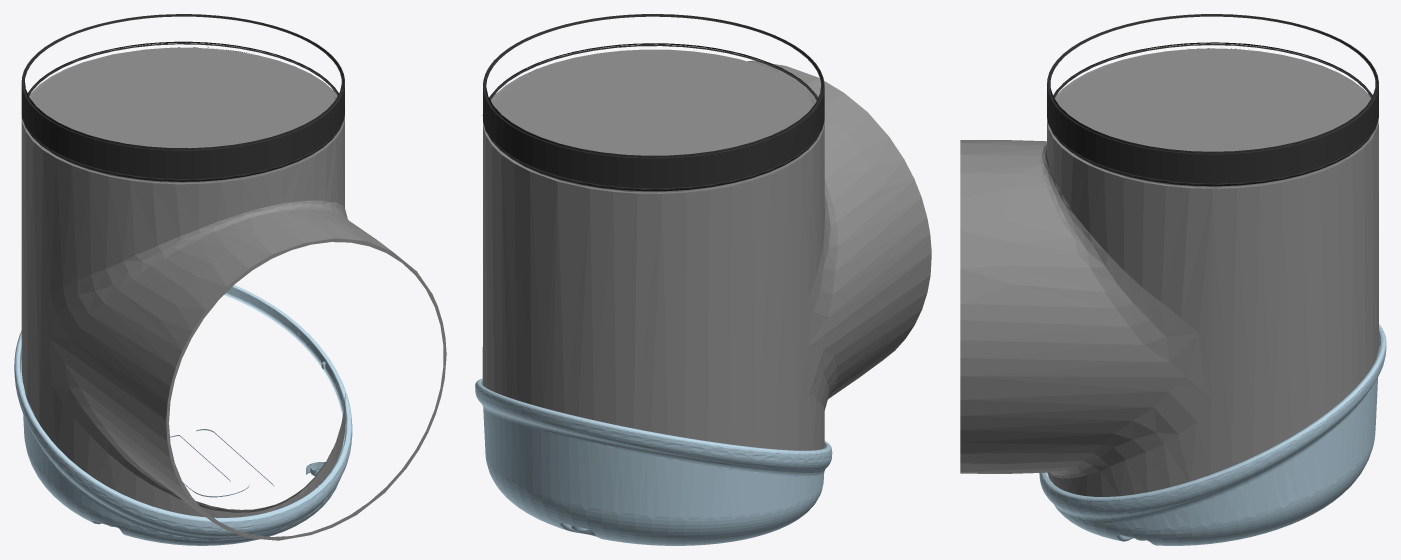
3 renders of one model, left to right at view 1: azimuth 30°, elevation 25°; view 2: azimuth 150°, elevation 25°; view 3: azimuth 270°, elevation 25°, orthographic. The views are drawn at different scales.
Visible parts, largest first — view 1: eSeries_UR10e_037-mesh, eSeries_UR10e_060-mesh, eSeries_UR10e_061-mesh; view 2: eSeries_UR10e_037-mesh, eSeries_UR10e_060-mesh, eSeries_UR10e_061-mesh; view 3: eSeries_UR10e_037-mesh, eSeries_UR10e_060-mesh, eSeries_UR10e_061-mesh.
Part boxes in pixels (<box>): eSeries_UR10e_037-mesh: <box>21,47,446,540</box>; eSeries_UR10e_060-mesh: <box>14,285,352,545</box>; eSeries_UR10e_061-mesh: <box>21,14,344,181</box>; eSeries_UR10e_037-mesh: <box>482,49,931,450</box>; eSeries_UR10e_060-mesh: <box>475,378,832,545</box>; eSeries_UR10e_061-mesh: <box>482,14,824,191</box>; eSeries_UR10e_037-mesh: <box>960,48,1379,496</box>; eSeries_UR10e_060-mesh: <box>1039,324,1386,545</box>; eSeries_UR10e_061-mesh: <box>1047,14,1378,186</box>.
Bounding box in the file's own units: 0.094 × 0.1241 × 0.1154.
